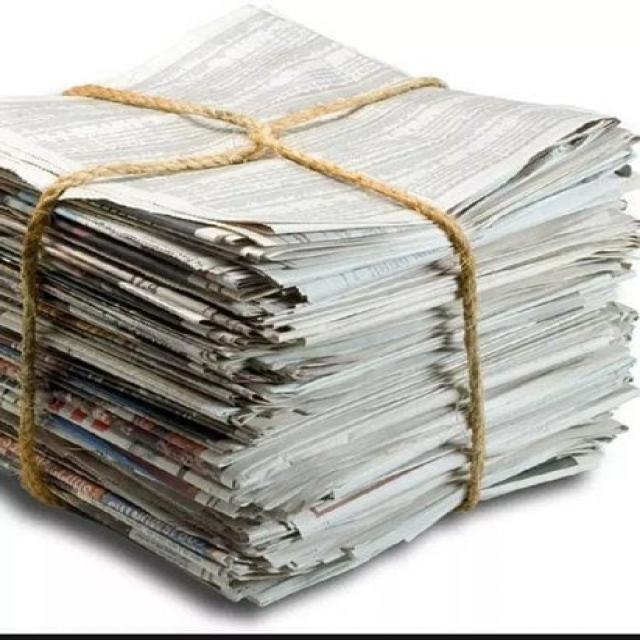Paper -Biodegradable-: (0, 1, 624, 614)
